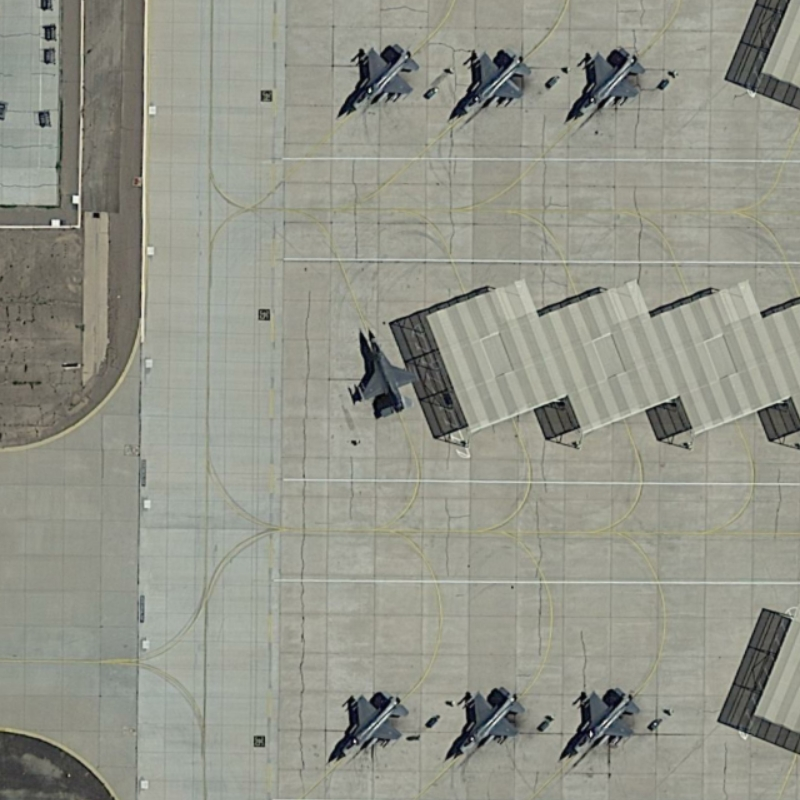A5: (349, 322, 423, 421), (445, 45, 534, 127), (335, 40, 422, 122), (562, 684, 642, 767), (568, 43, 648, 125), (448, 685, 528, 766), (330, 690, 411, 767)
